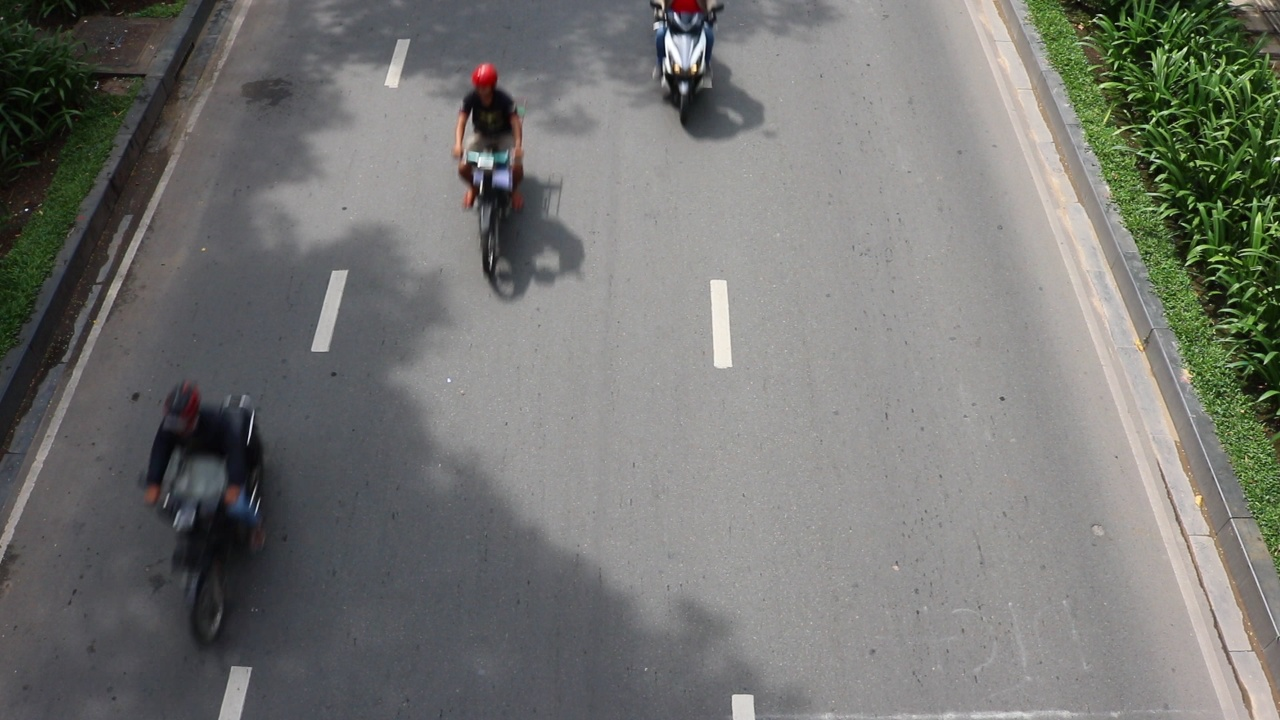motorcycle: (164, 487, 262, 649), (456, 144, 526, 293), (648, 2, 724, 119)
